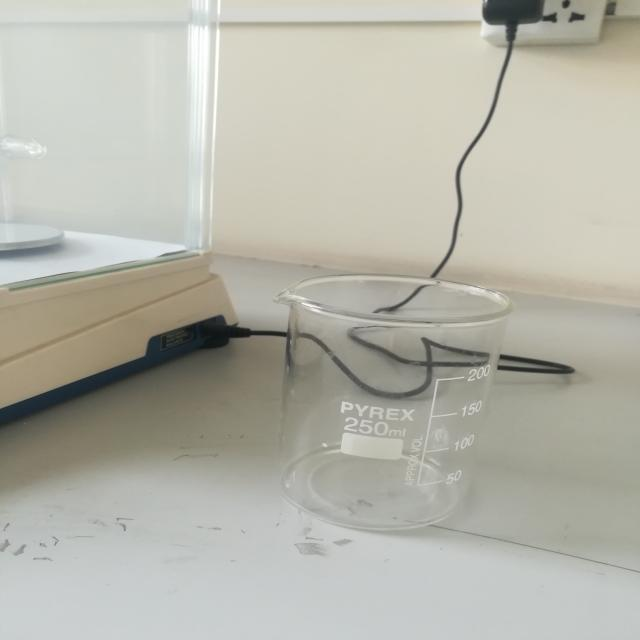Beaker: (248, 236, 526, 559)
